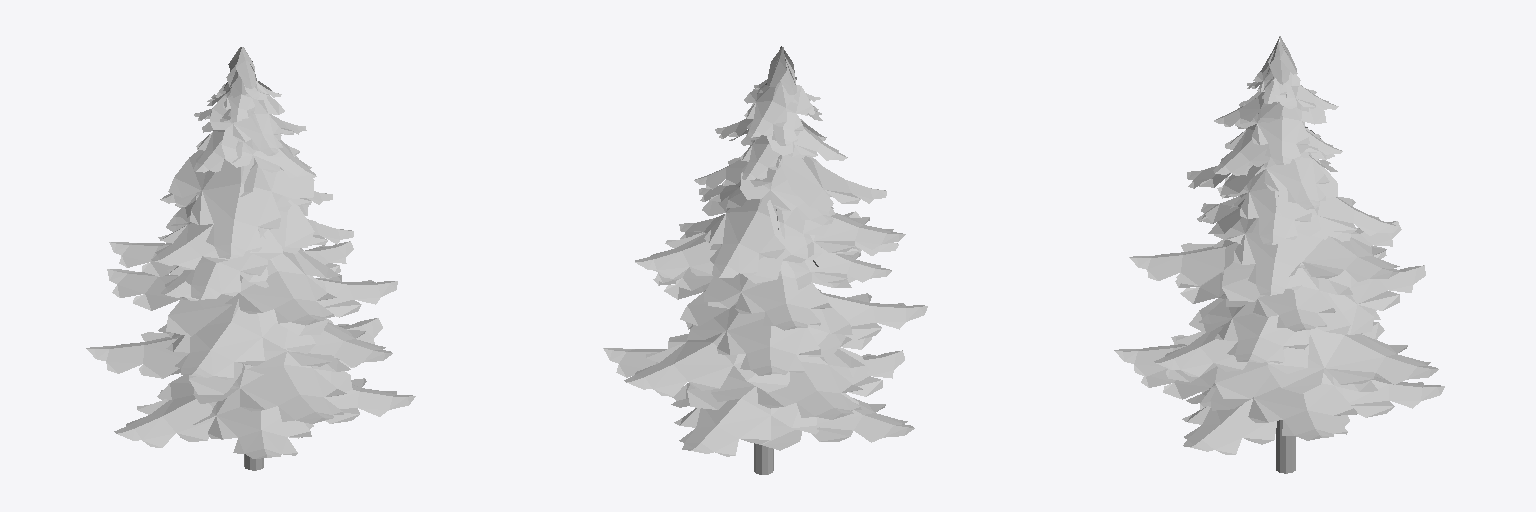
Rendered from talltree.obj.
3 renders of one model, left to right at view 1: azimuth 30°, elevation 25°; view 2: azimuth 150°, elevation 25°; view 3: azimuth 270°, elevation 25°, orthographic.
Visible parts, largest first — view 1: obj1; view 2: obj1, obj2; view 3: obj1, obj2.
Boxes of the visible parts, box(x1,y1,x2,y2) form: obj1: box(86, 47, 415, 458); obj1: box(603, 46, 927, 456); obj2: box(754, 443, 773, 474); obj1: box(1114, 36, 1444, 454); obj2: box(1276, 420, 1295, 473).
Bounding box in the file's own units: 217 × 308 × 217.